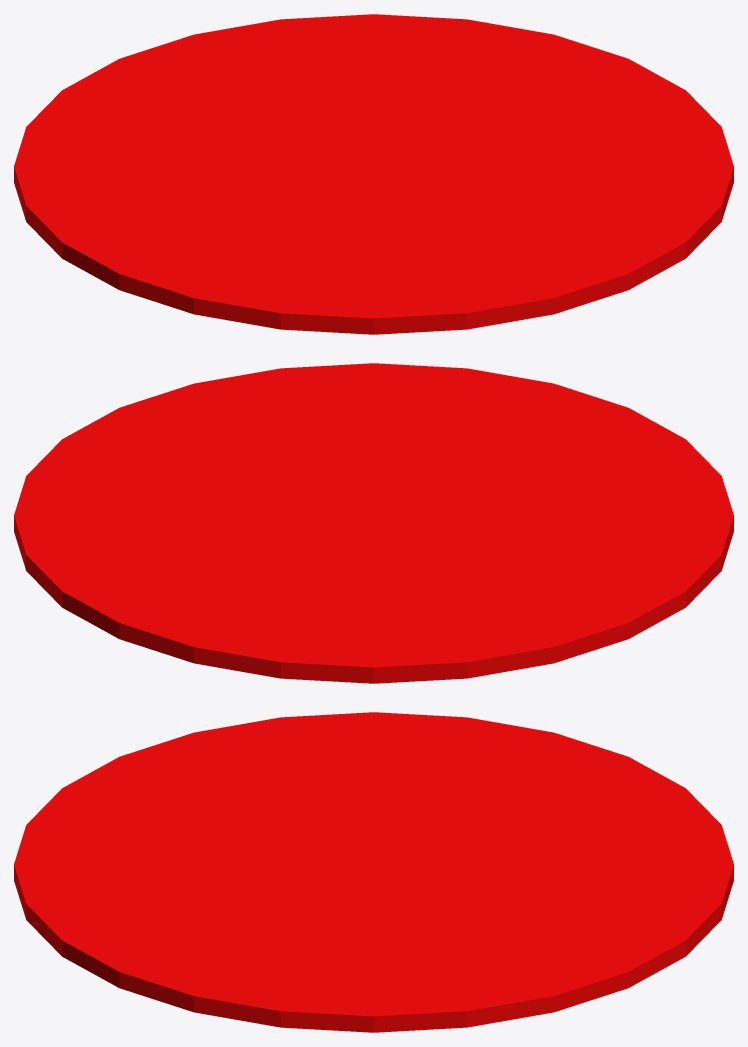
The model's file is figure_circle_red.dae.
The picture shows the model from 3 angles, top to bottom: view 1: azimuth 30°, elevation 25°; view 2: azimuth 150°, elevation 25°; view 3: azimuth 270°, elevation 25°; orthographic projection.
Parts seen in each view (by area): view 1: Circle; view 2: Circle; view 3: Circle.
Part boxes in pixels (box(x1,y1,x2,y2)): Circle: box(14, 14, 733, 334); Circle: box(14, 363, 733, 683); Circle: box(14, 712, 733, 1032).
Bounding box in the file's own units: 1 × 1 × 0.025.
Materials: 1 (1 with a texture image).
